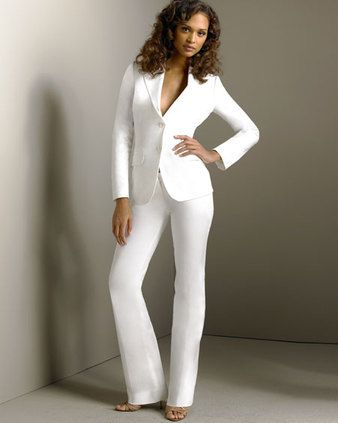feet: (104, 351, 200, 423)
